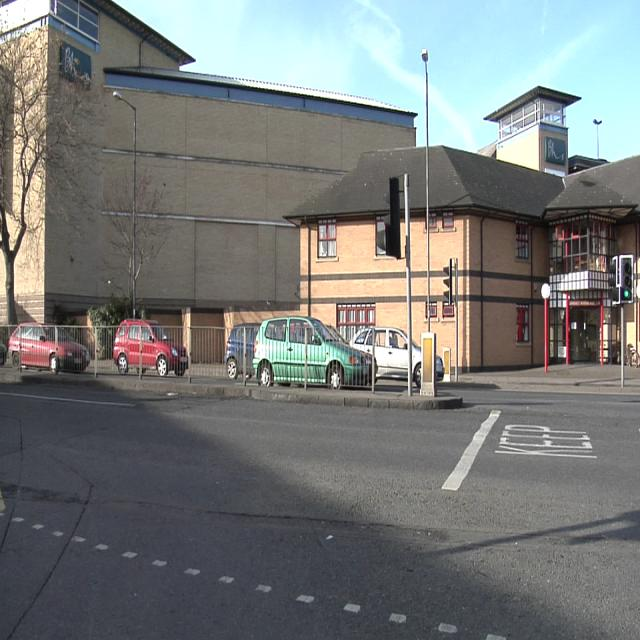Building: (36, 0, 415, 324), (431, 86, 638, 370)
Car: (225, 317, 407, 387), (9, 324, 88, 370), (114, 321, 181, 374), (413, 343, 421, 387)
Road: (1, 381, 639, 620)
Tree: (1, 29, 46, 321)
